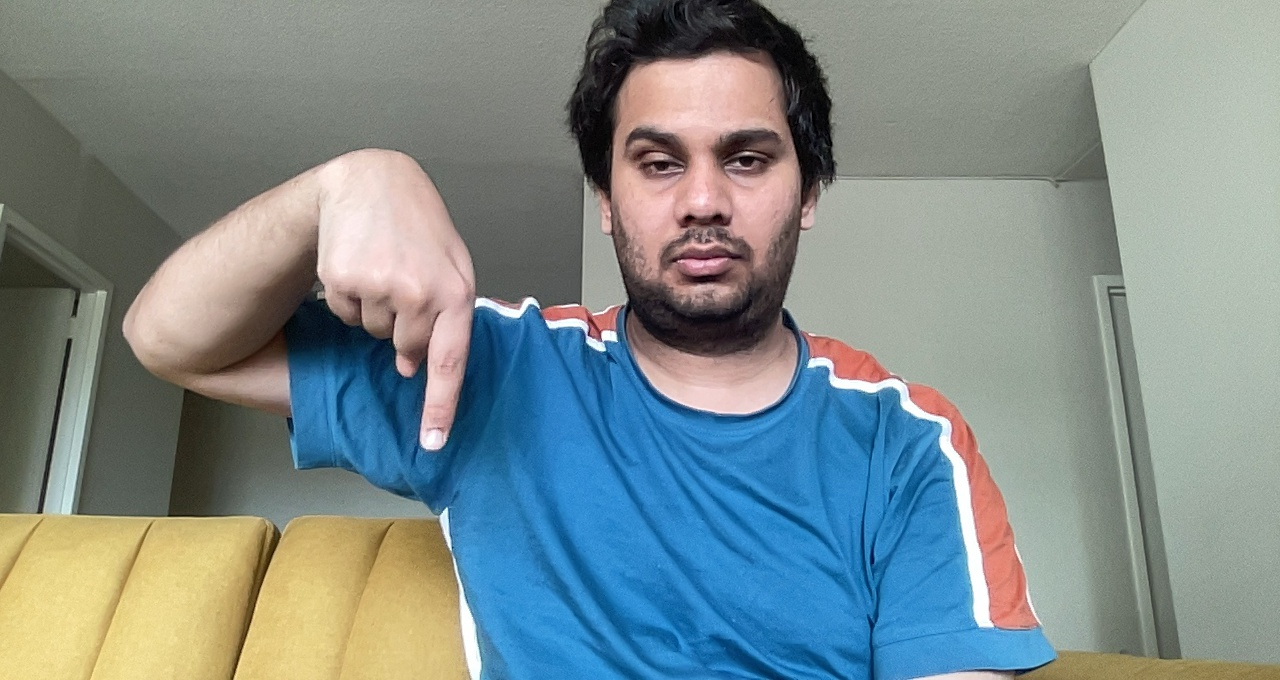fingerdown: (309, 145, 484, 459)
